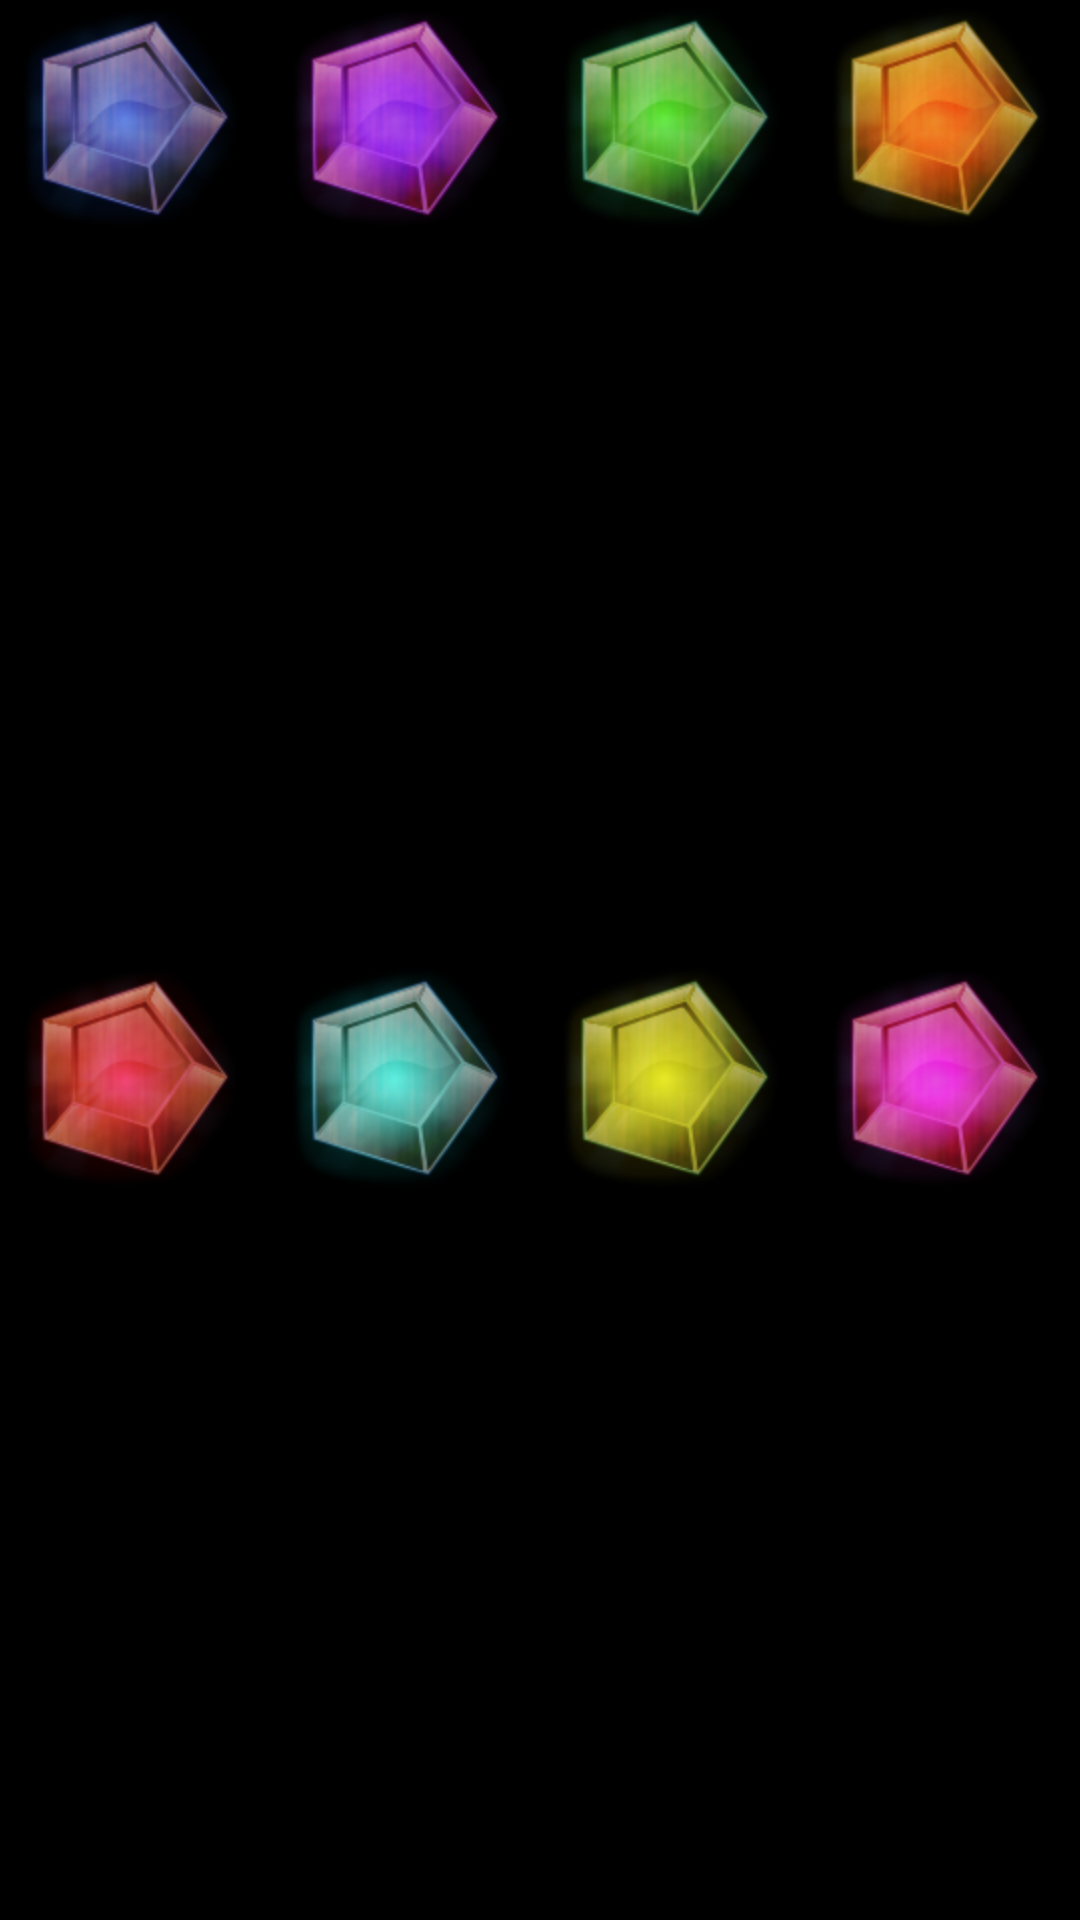

Screen size 1080x1920. Icon name, then its box in pixels as (x1, y1, x2, y2):
Bleu: (31, 20, 229, 216)
Ciant: (301, 980, 499, 1176)
Jaune: (571, 980, 769, 1176)
Orange: (841, 20, 1039, 216)
Rose: (841, 980, 1039, 1176)
Rouge: (32, 980, 229, 1176)
Vert: (571, 20, 769, 216)
Violet: (301, 20, 499, 216)
